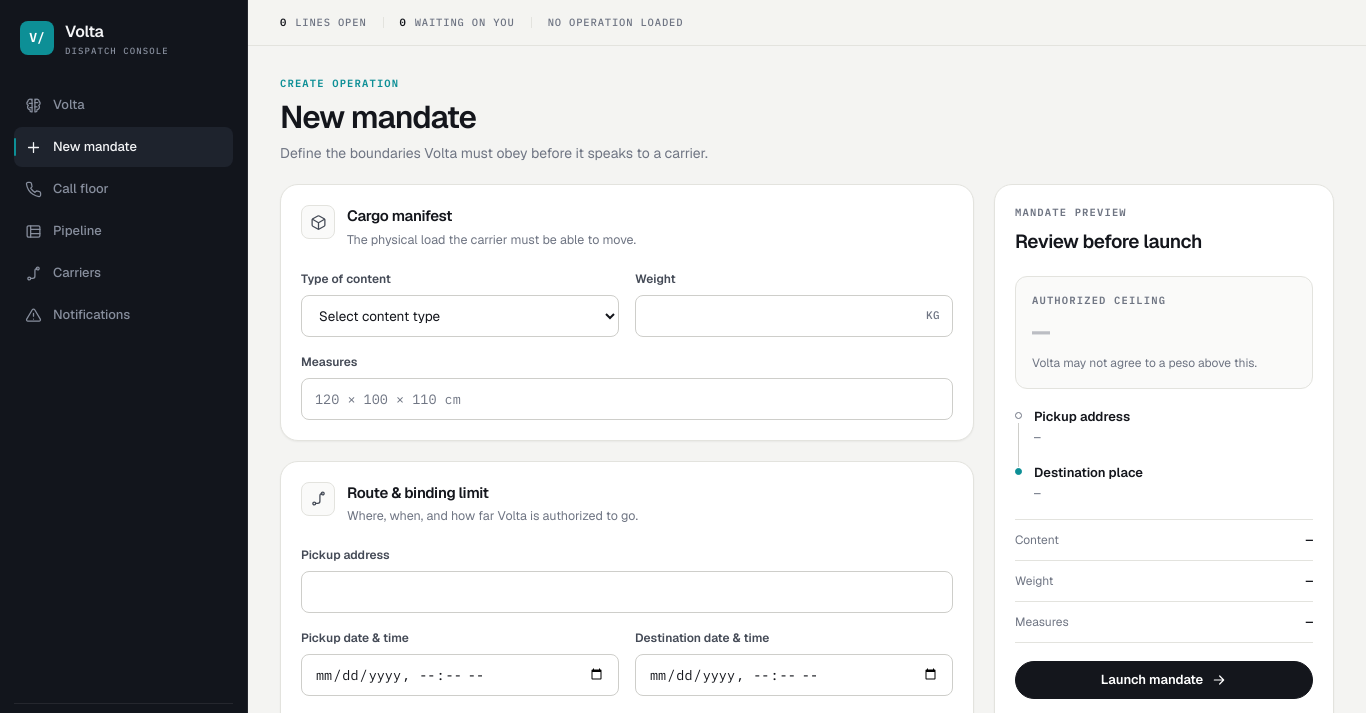
Scenario: DashboardConsole › recovers the carrier directory after a transient read failure
Click the button "Carriers".
click(124, 273)  # box top-left (14, 253), bottom-right (233, 293)
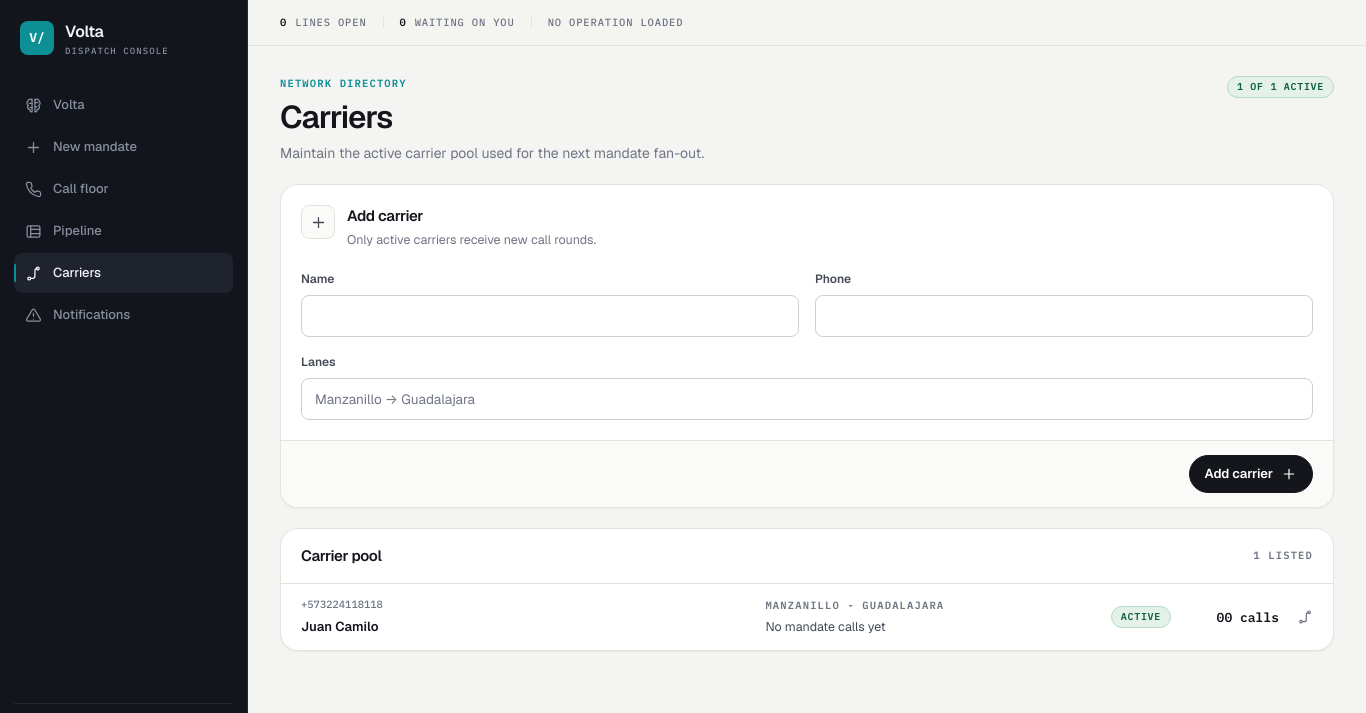
Expected: the text "Juan Camilo" is shown, top-left (301, 618), bottom-right (378, 635)
